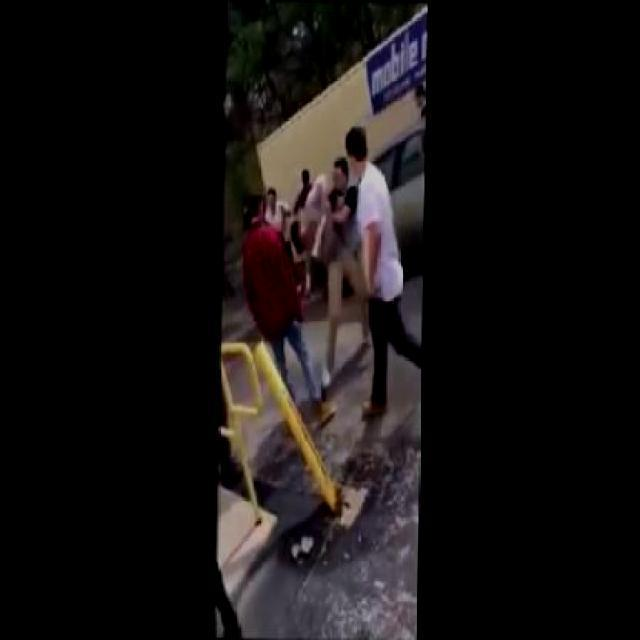fight: (286, 158, 376, 382)
